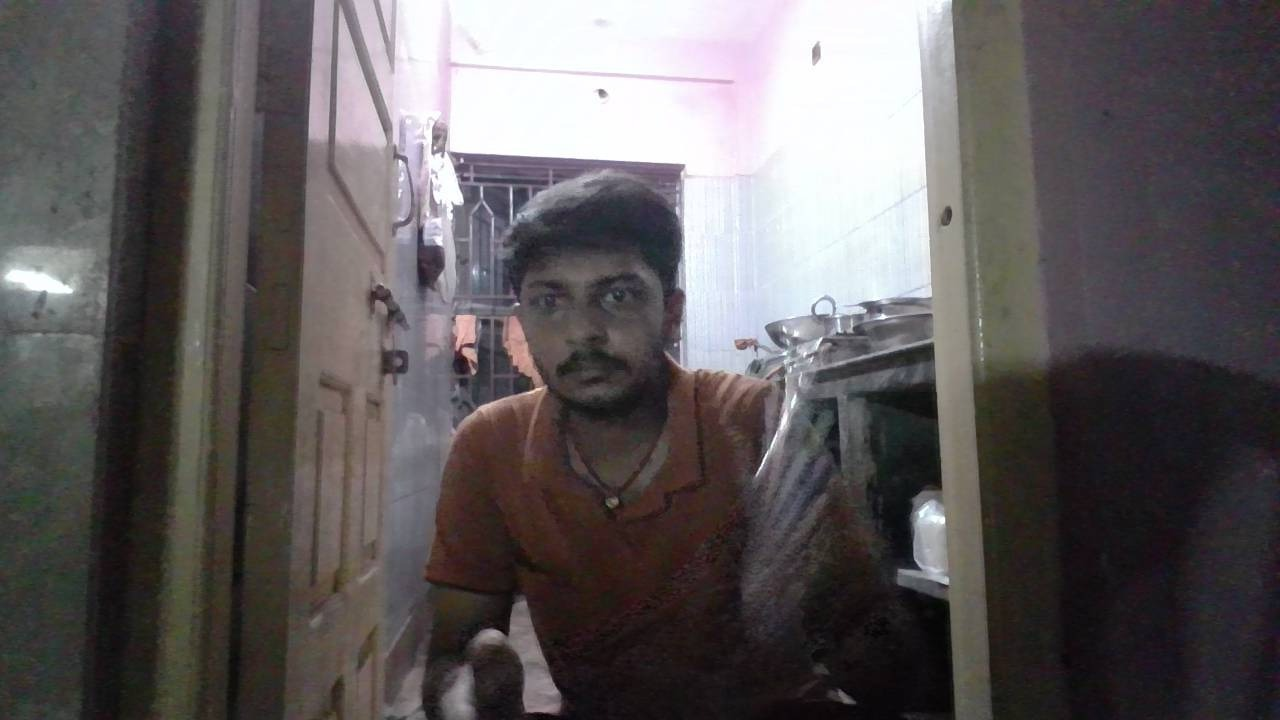red_box: (426, 410, 574, 581), (618, 440, 698, 520)
